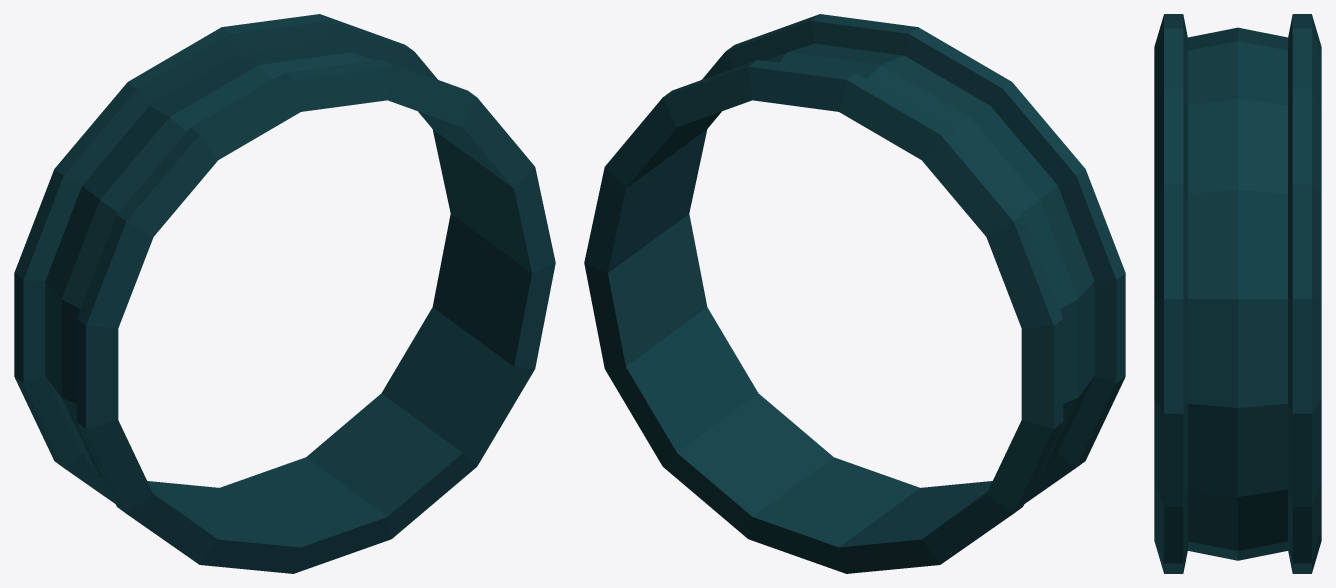
The model's file is anillo1.glb.
The picture shows the model from 3 angles, left to right: view 1: azimuth 30°, elevation 25°; view 2: azimuth 150°, elevation 25°; view 3: azimuth 270°, elevation 25°; orthographic projection. The views are drawn at different scales.
Visible parts, largest first — view 1: Ring7_Torus.001; view 2: Ring7_Torus.001; view 3: Ring7_Torus.001.
Part boxes in pixels (bbox=[...]): Ring7_Torus.001: bbox=[14, 14, 555, 573]; Ring7_Torus.001: bbox=[584, 14, 1125, 573]; Ring7_Torus.001: bbox=[1154, 14, 1321, 573].
Size of the model in its own units: 0.6442 by 0.6477 by 0.1936.
